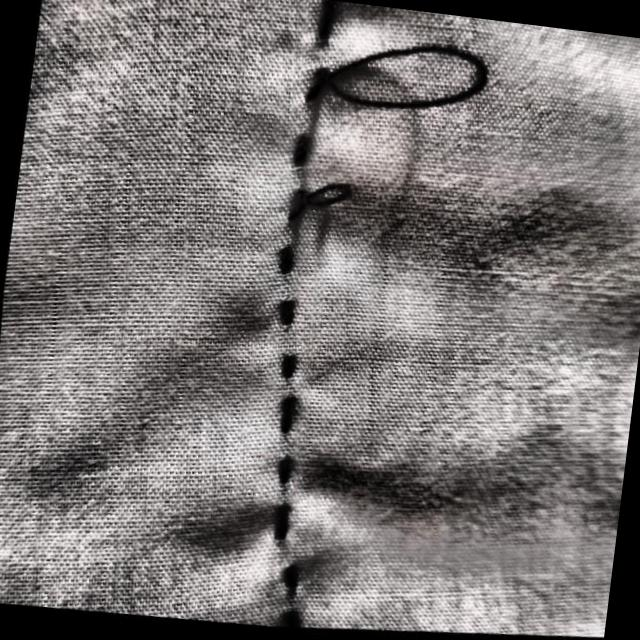Thread: (322, 26, 496, 129), (305, 174, 357, 218)
seam: (228, 0, 382, 634)
